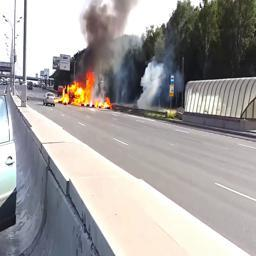fire: (58, 71, 113, 109)
